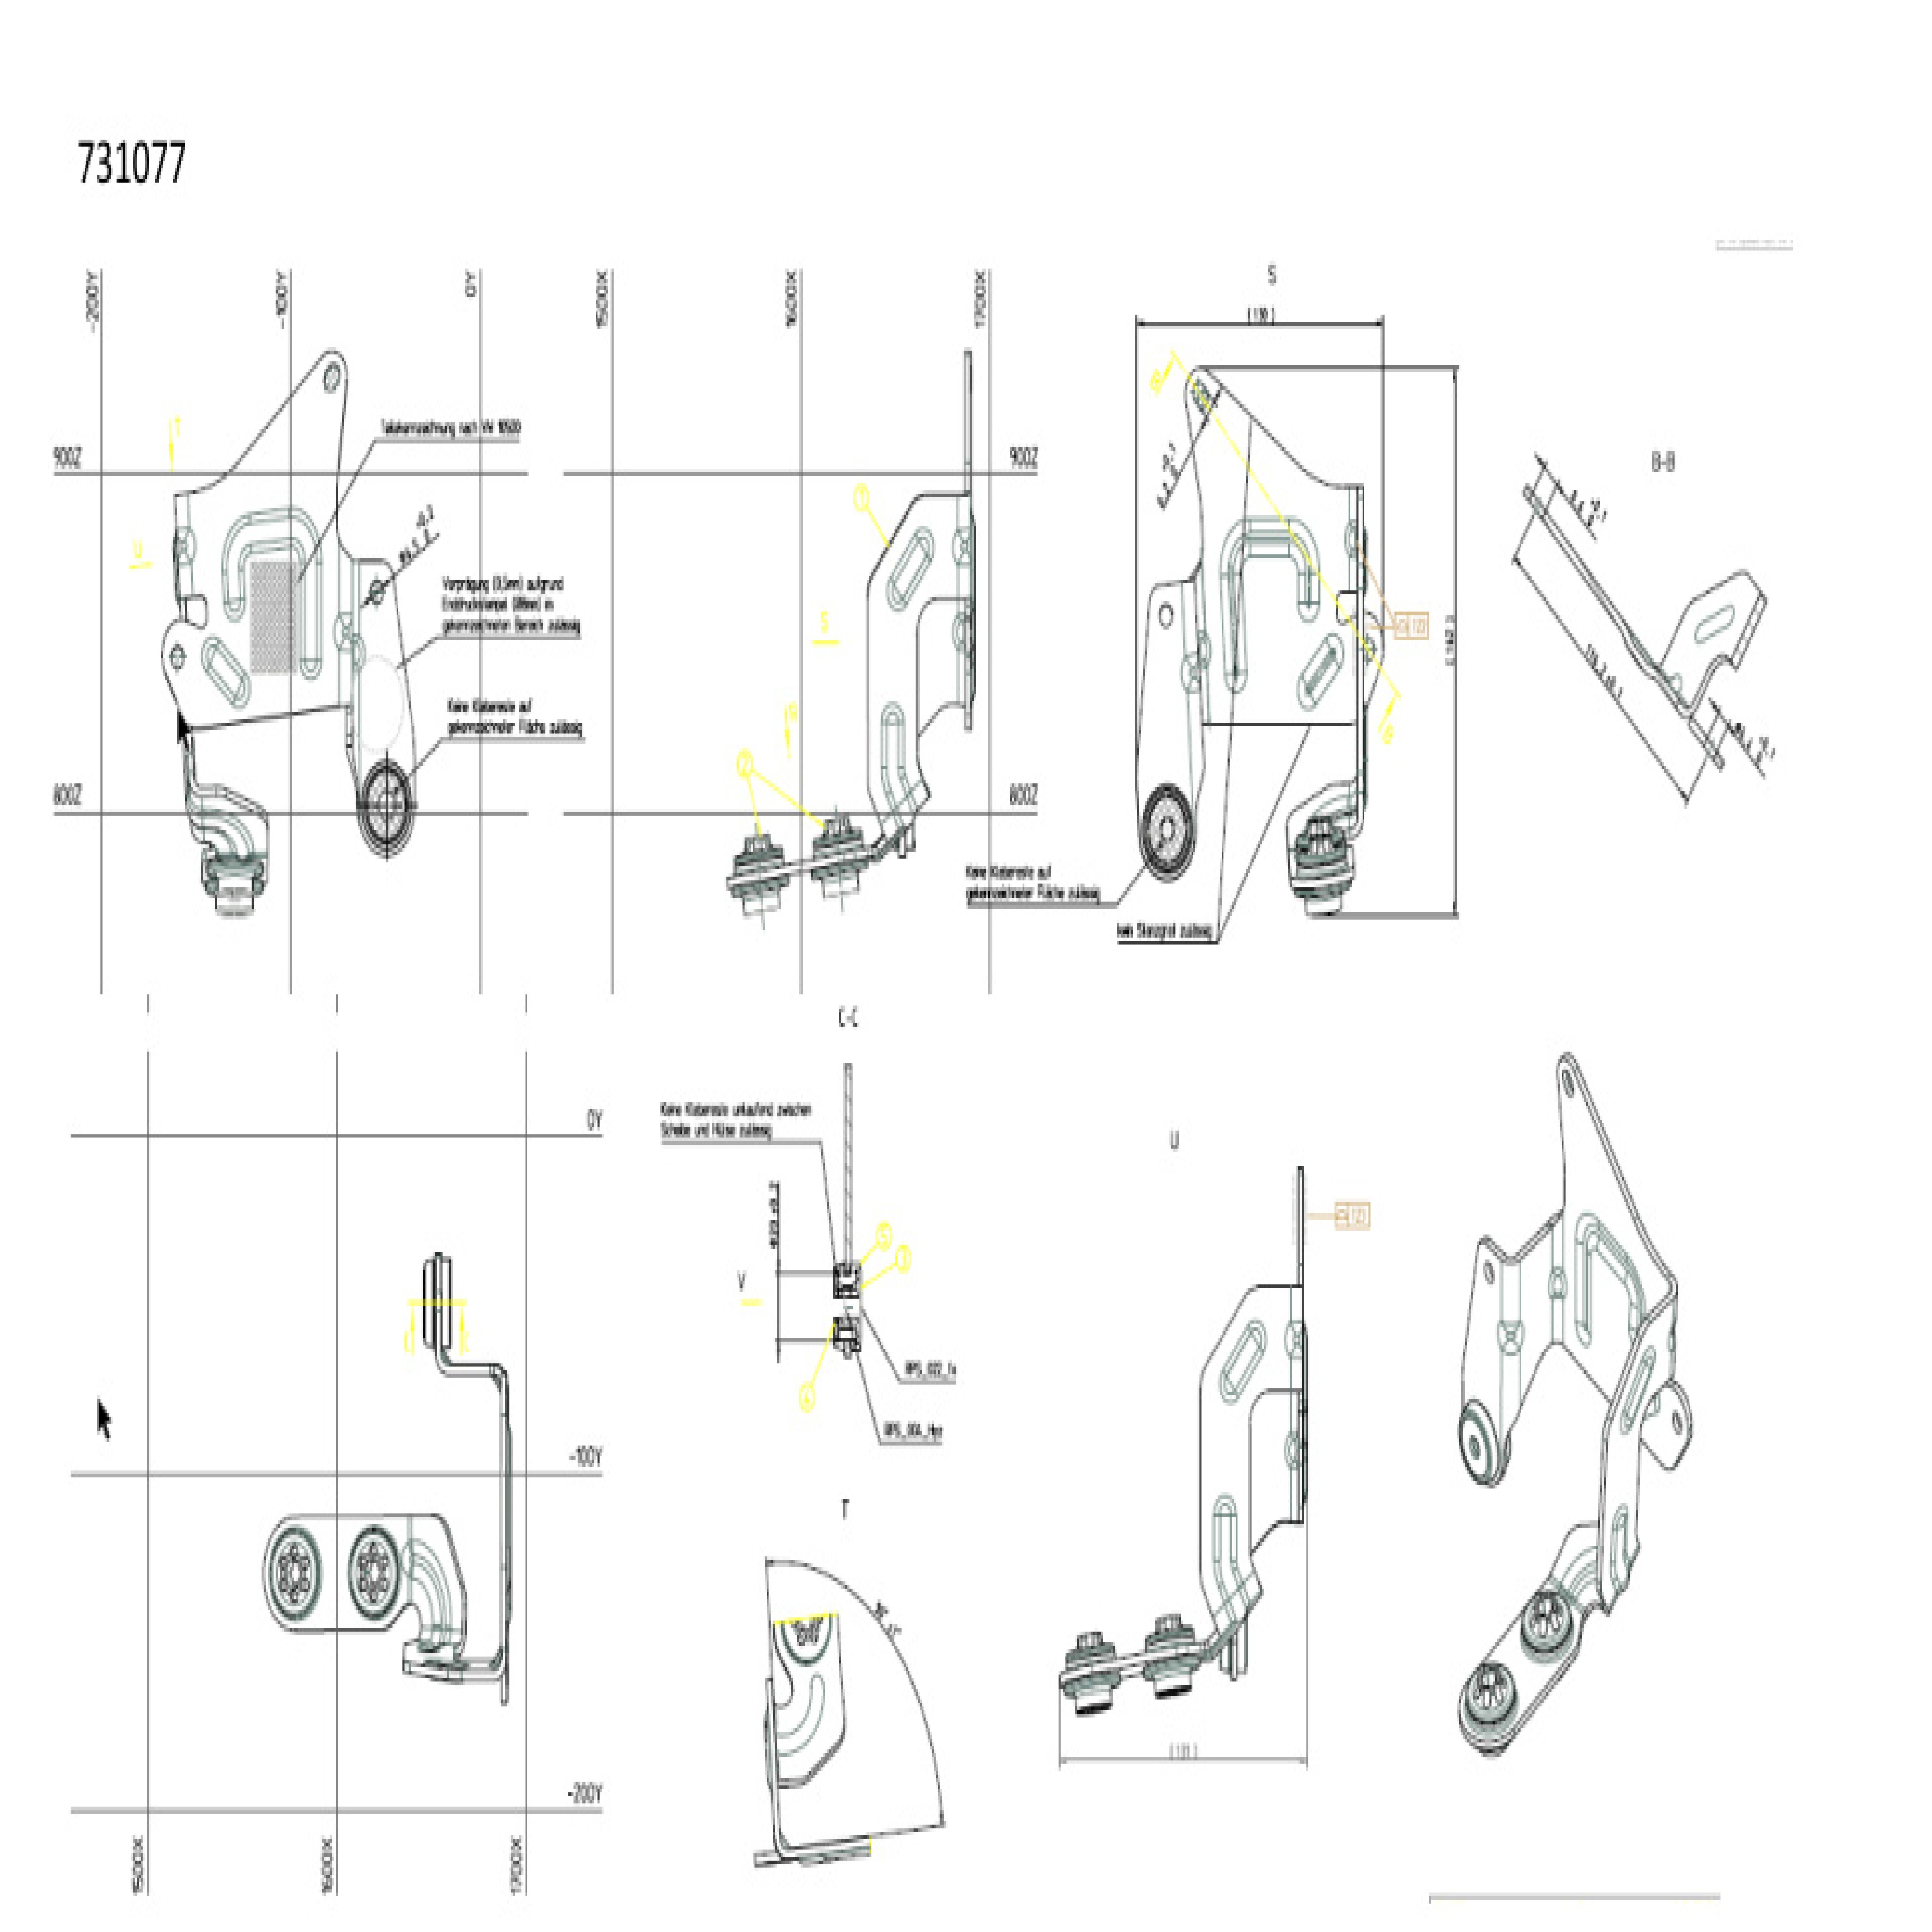Embossment: (216, 504, 331, 683), (1215, 517, 1323, 694), (387, 1530, 471, 1644), (870, 517, 952, 621), (1201, 1311, 1283, 1415), (182, 626, 271, 720), (1281, 625, 1359, 718), (1605, 1343, 1674, 1440), (878, 695, 918, 830), (1208, 1484, 1247, 1617)
InnerContour: (324, 357, 341, 393), (1157, 602, 1177, 628), (370, 579, 387, 605), (1362, 633, 1375, 667), (170, 646, 186, 669), (1674, 1408, 1684, 1435), (1484, 1261, 1495, 1283)
Reinforcement: (947, 603, 973, 662), (170, 524, 198, 568), (1497, 1318, 1525, 1357), (1283, 1318, 1307, 1361), (952, 520, 973, 566), (333, 609, 354, 653), (1180, 649, 1201, 694), (1284, 1428, 1306, 1472), (1546, 1265, 1569, 1299), (352, 633, 368, 674), (1196, 626, 1212, 667), (1345, 513, 1357, 556)
